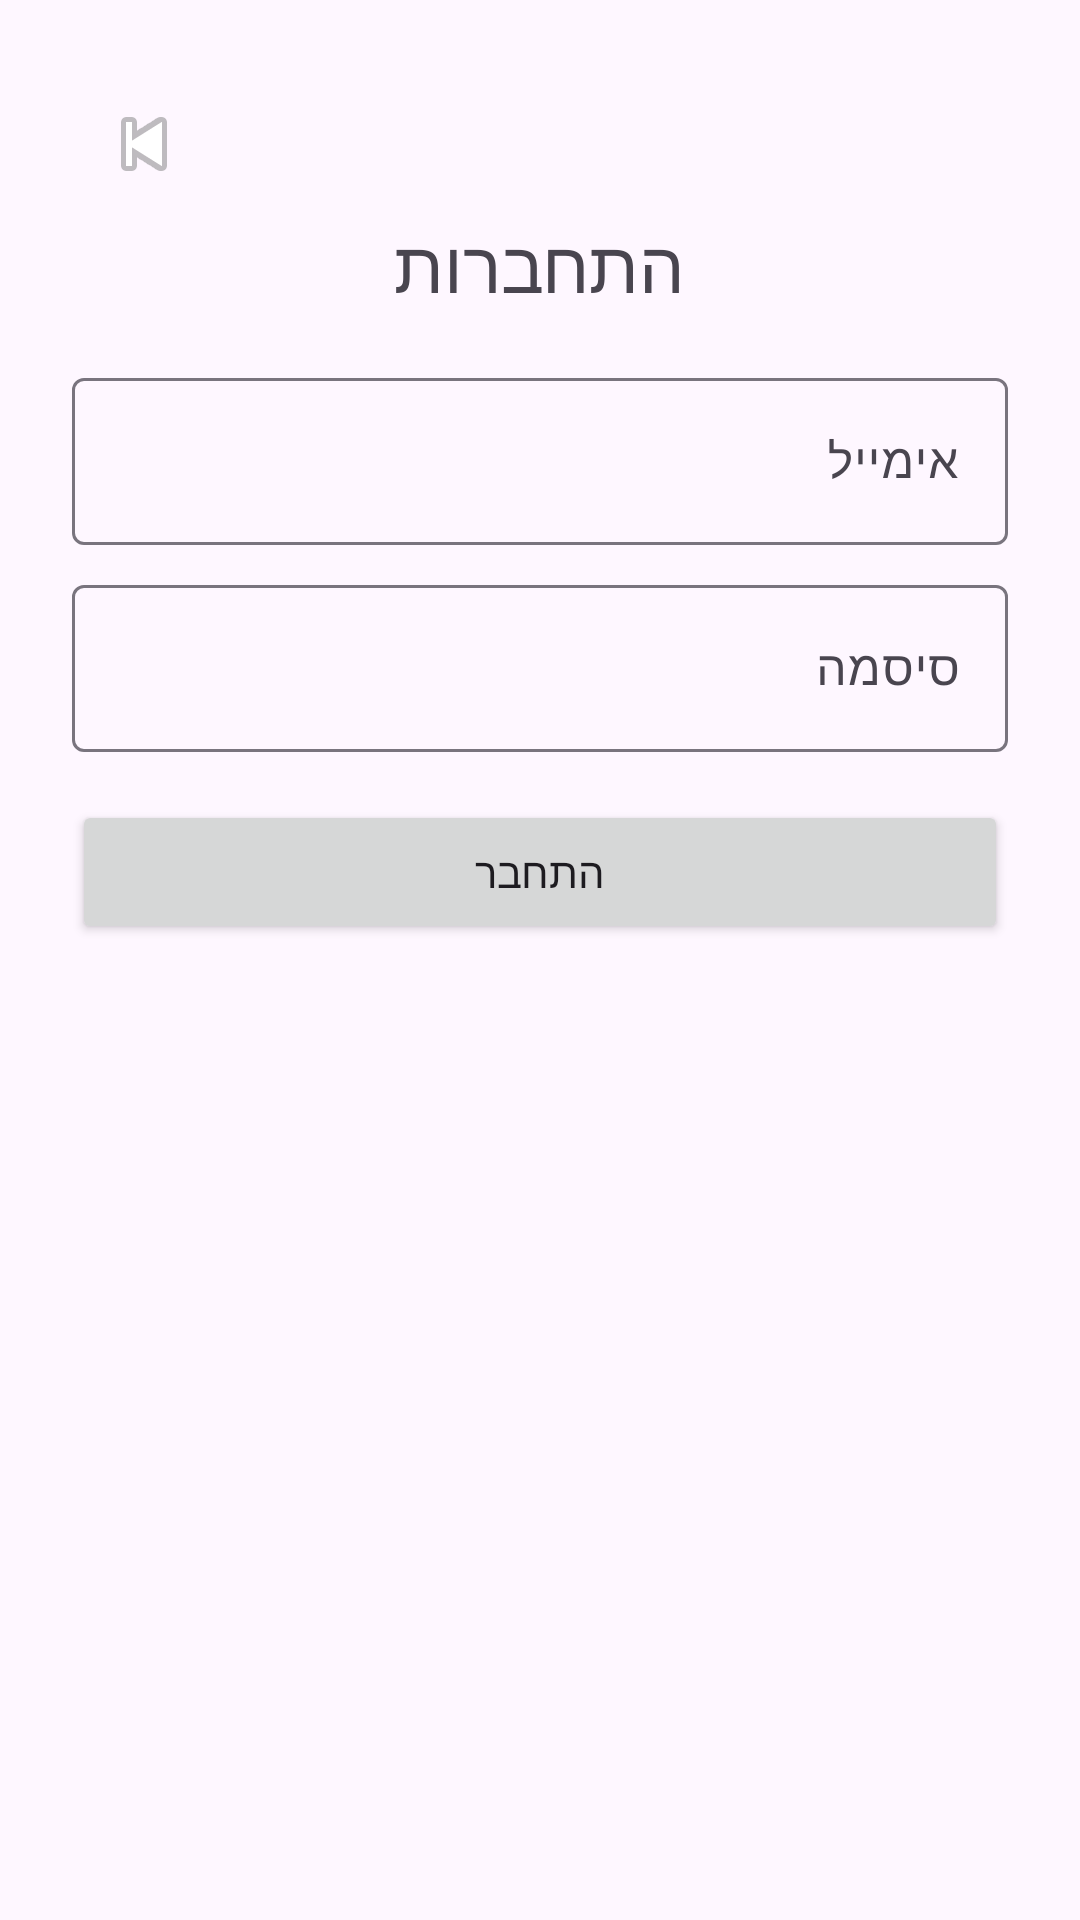

Icon bounding boxes for this 1080*1920 phone screenshot, format region(x1, y1, x2, y2):
previous: region(121, 117, 167, 171)
